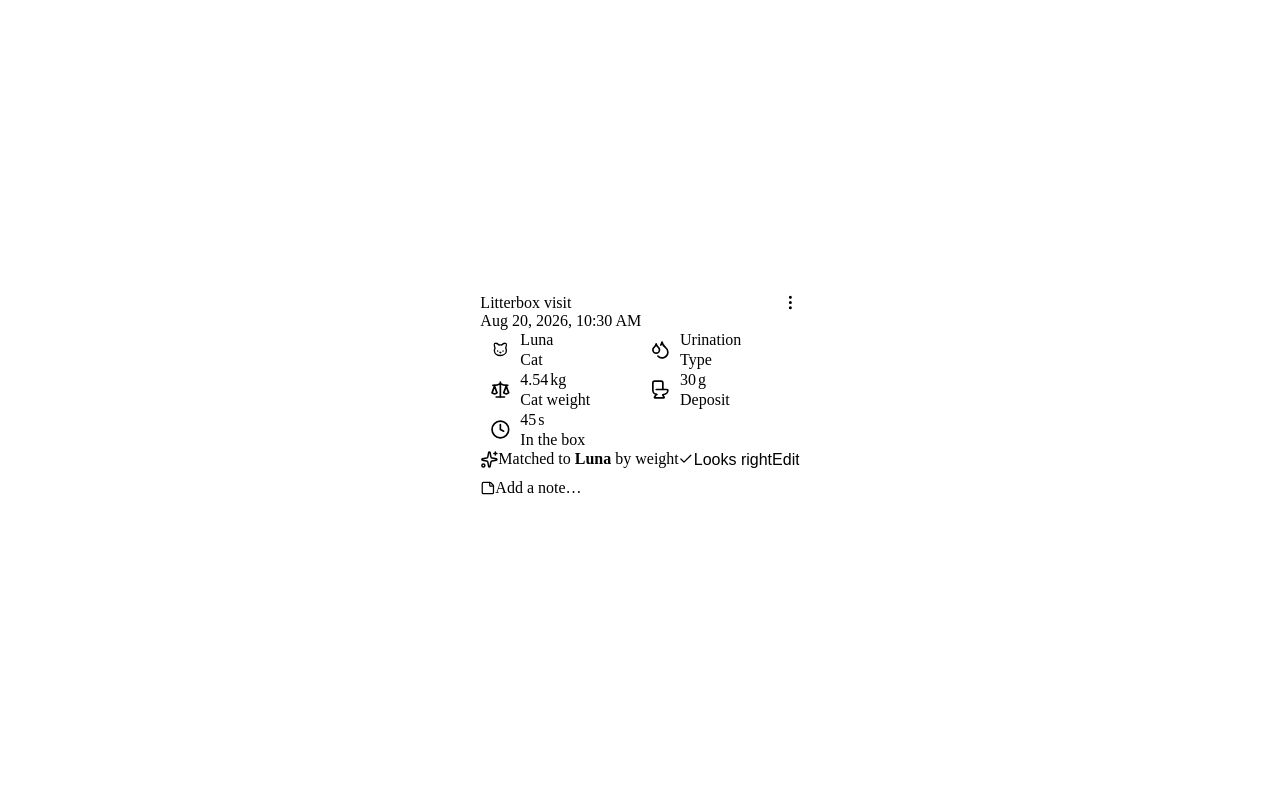
it: EventDetailsModal › hands back a weight the bin took
This screenshot has width=1280, height=800.
Click the button "Edit" at (786, 459), box top-left (772, 450), bottom-right (800, 468)
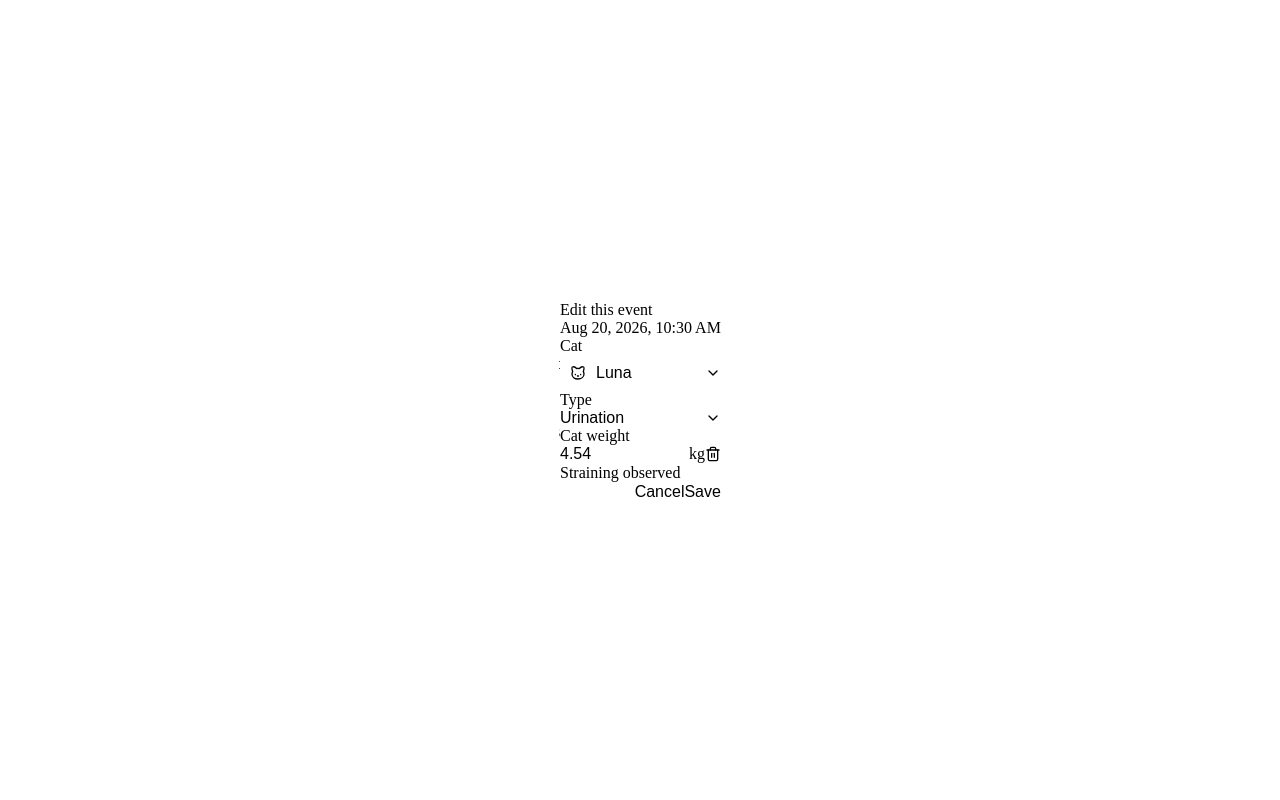
Click the button named "Remove this weight" at (712, 455), box top-left (704, 447), bottom-right (720, 463)
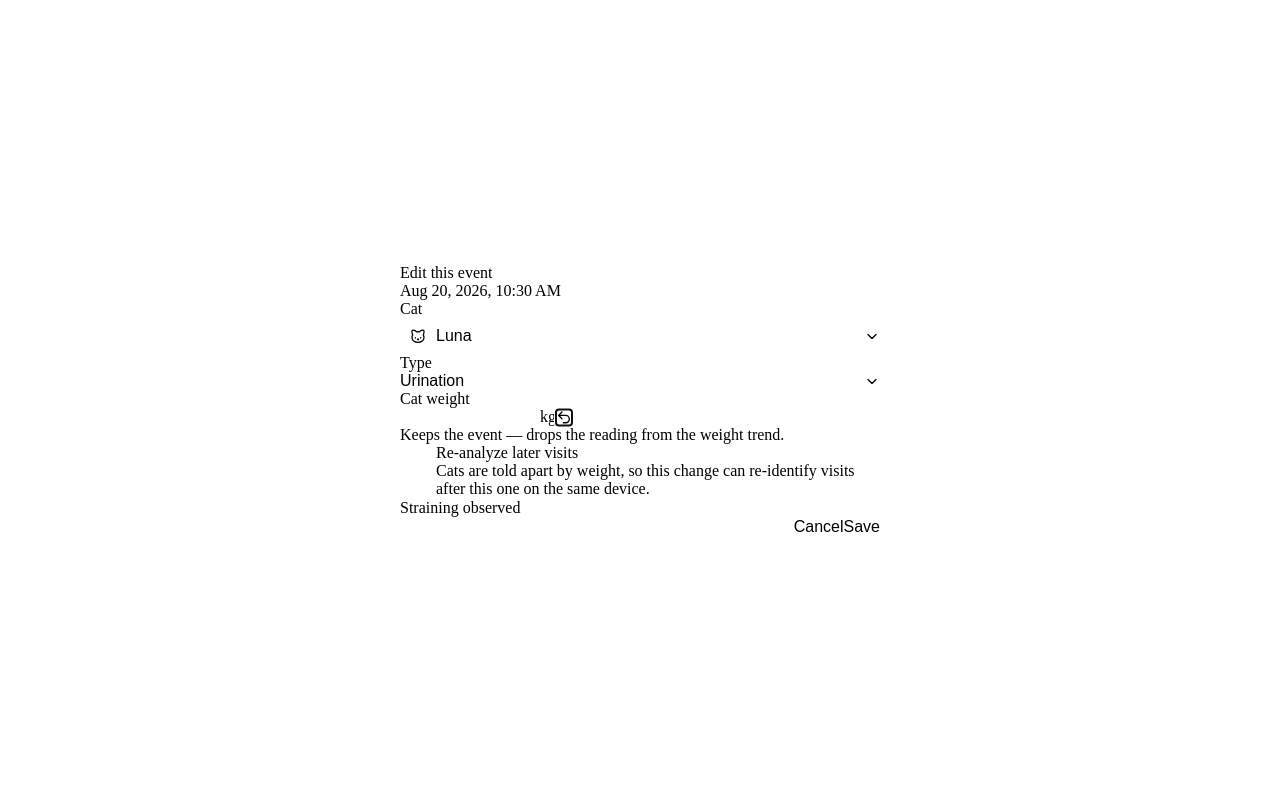
Expected: the checkbox labelled "Re-analyze later visits" is shown, top-left (400, 445), bottom-right (436, 465)
Click the button named "Restore 4.54 kg" at (564, 418), box top-left (556, 410), bottom-right (572, 426)
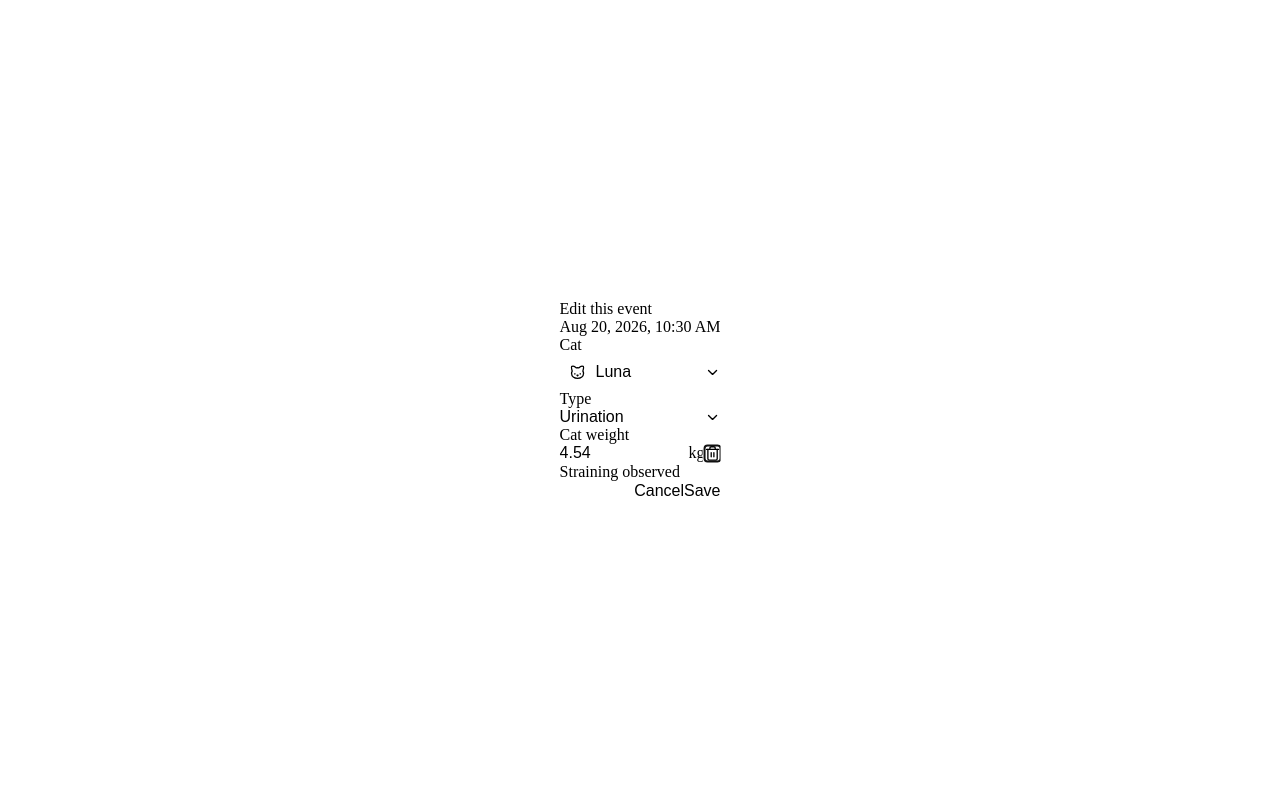
Expected: the checkbox labelled "Re-analyze later visits" is gone
Expected: the button named "Remove this weight" is shown, top-left (704, 446), bottom-right (720, 462)
